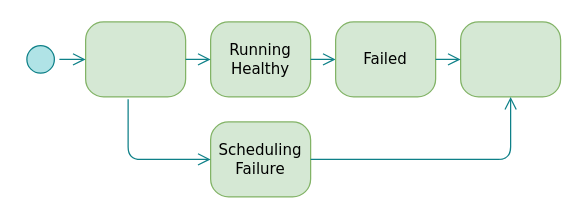
The diagram is 583 pixels wide and 219 high, and some of its shapes have lost their labels. Each missing label, with the centre of its shape:
Resource Released: point (510, 59)
Submitted: point (135, 59)
